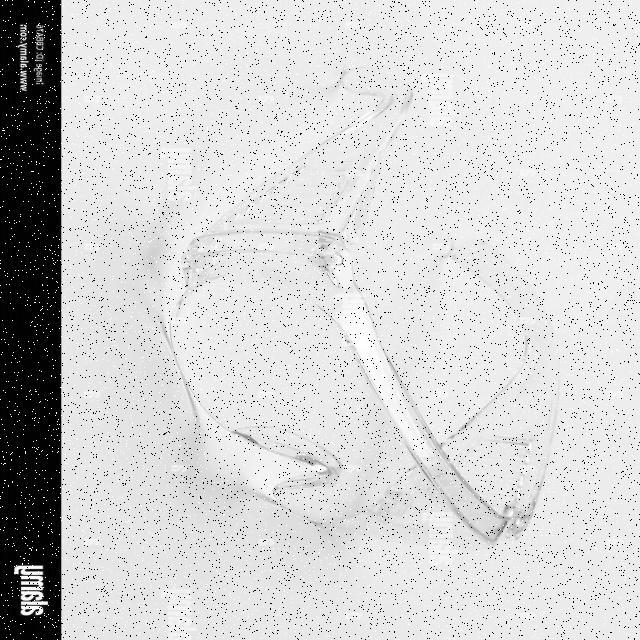Goggles: (164, 62, 566, 566)
